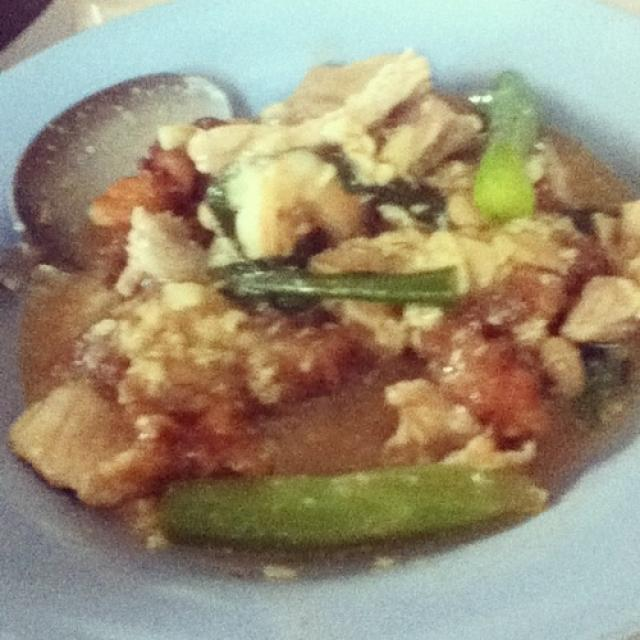面条主食: (4, 48, 635, 546)
